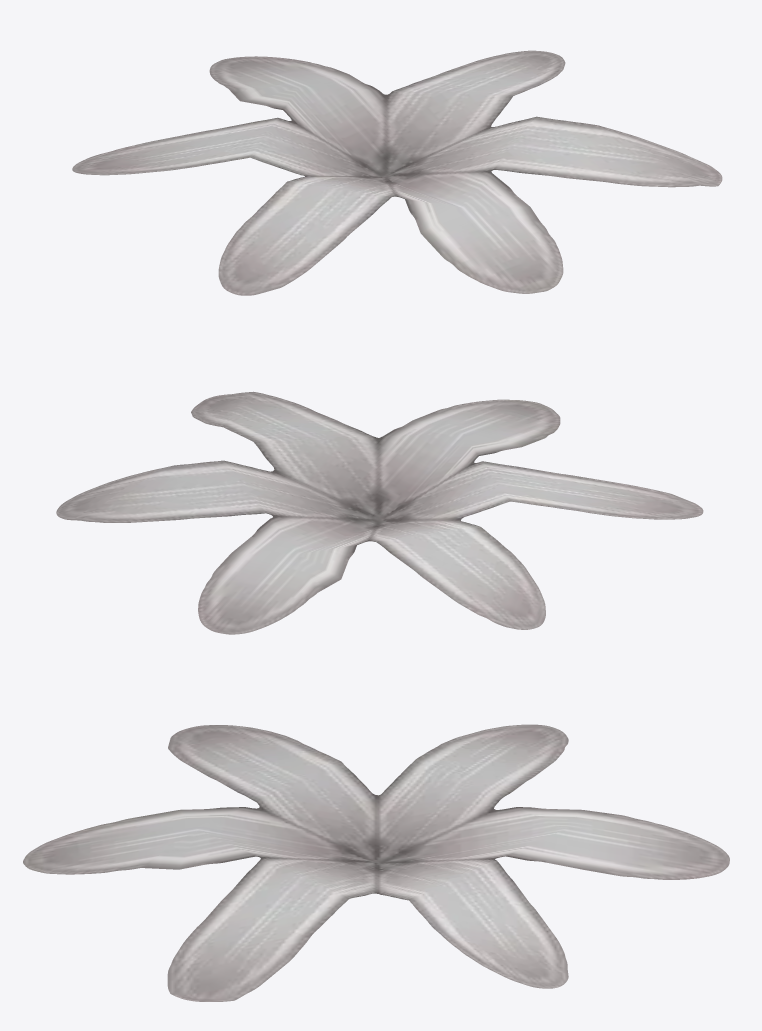
The model's file is pm-flower-01.glb.
The picture shows the model from 3 angles, top to bottom: view 1: azimuth 30°, elevation 25°; view 2: azimuth 150°, elevation 25°; view 3: azimuth 270°, elevation 25°; orthographic projection. The views are drawn at different scales.
Visible parts, largest first — view 1: Flower01; view 2: Flower01; view 3: Flower01.
Part boxes in pixels (box(x1,y1,x2,y2)): Flower01: box(72, 50, 722, 295); Flower01: box(56, 391, 703, 634); Flower01: box(23, 724, 729, 1001).
Size of the model in its own units: 0.6029 by 0.0375 by 0.6029.
1 material, 1 textured.
